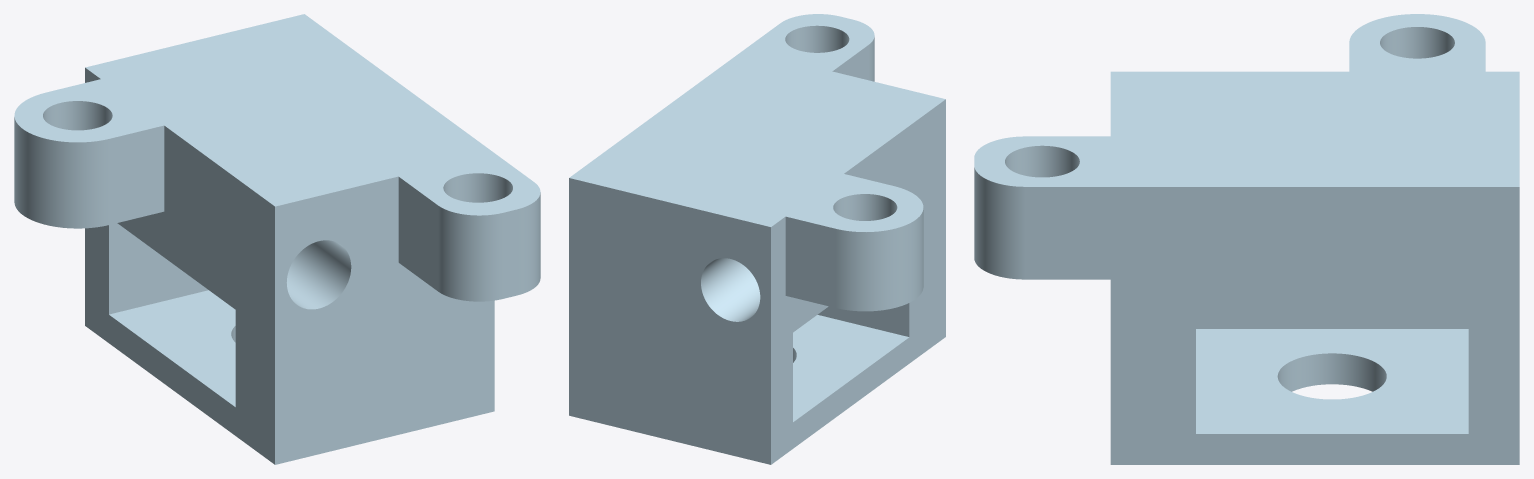
3 views of the same model, side by side, from view 1: azimuth 30°, elevation 25°; view 2: azimuth 150°, elevation 25°; view 3: azimuth 270°, elevation 25° (orthographic). The views are drawn at different scales.
Visible parts, largest first — view 1: mesh22, mesh11, mesh18, mesh21, mesh5, mesh15, mesh3, mesh20, mesh12, mesh9, mesh13, mesh24 (+2 smaller); view 2: mesh8, mesh22, mesh18, mesh21, mesh5, mesh19, mesh9, mesh4, mesh17, mesh24, mesh12; view 3: mesh10, mesh22, mesh5, mesh13, mesh6, mesh17, mesh24.
Part boxes in pixels (box(x1,y1,x2,y2)): mesh22: box(14, 14, 540, 215); mesh11: box(275, 176, 494, 464); mesh18: box(85, 67, 274, 464); mesh21: box(14, 117, 109, 228); mesh5: box(109, 290, 235, 406); mesh15: box(438, 206, 502, 301); mesh3: box(109, 223, 208, 314); mesh20: box(109, 125, 164, 224); mesh12: box(398, 177, 438, 291); mesh9: box(286, 240, 351, 309); mesh13: box(516, 192, 540, 295); mesh24: box(43, 101, 112, 130); mesh8: box(569, 178, 770, 464); mesh22: box(569, 14, 945, 231); mesh18: box(771, 99, 945, 464); mesh21: box(836, 208, 923, 311); mesh5: box(793, 315, 908, 421); mesh19: box(785, 216, 835, 307); mesh9: box(701, 258, 760, 321); mesh4: box(817, 303, 909, 336); mesh17: box(785, 25, 849, 52); mesh24: box(833, 194, 897, 220); mesh12: box(832, 45, 868, 80); mesh10: box(1025, 187, 1519, 464); mesh22: box(974, 14, 1519, 186); mesh5: box(1196, 329, 1468, 433); mesh13: box(974, 167, 1025, 279); mesh6: box(1277, 353, 1386, 391); mesh17: box(1005, 145, 1079, 177); mesh24: box(1380, 27, 1454, 58).
Bounding box in the file's own units: 0.012 × 0.009 × 0.016.
